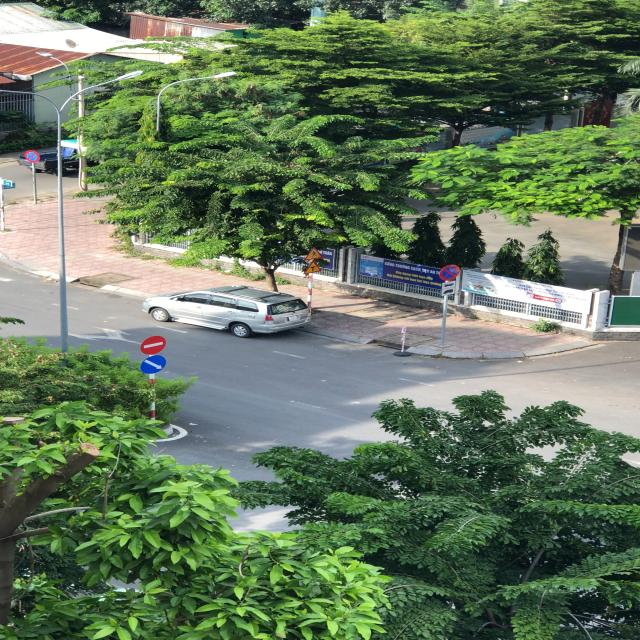Bien bao cam di nguoc chieu: (138, 334, 170, 356)
Bien bao cam dung xe va do xe: (436, 263, 464, 281)
Bien bao duong giao nhau: (302, 260, 326, 275)
Bien bao duong nguoi di bo cat ngang: (302, 246, 326, 260)
Bien bao huong phai di vong chuong ngai vat: (138, 354, 170, 374)
